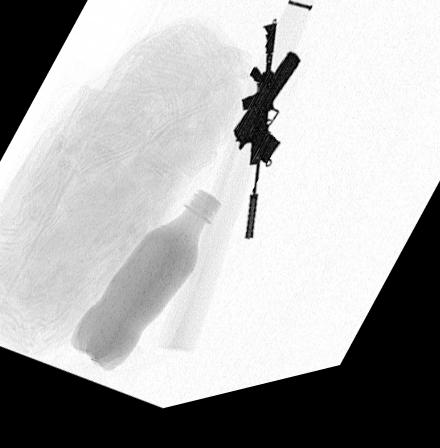Gun: (240, 35, 277, 250), (231, 64, 300, 176)
